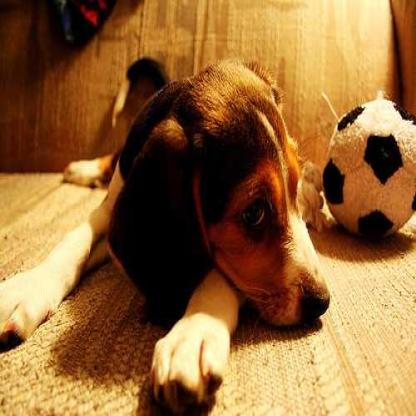ball: (323, 96, 416, 238)
